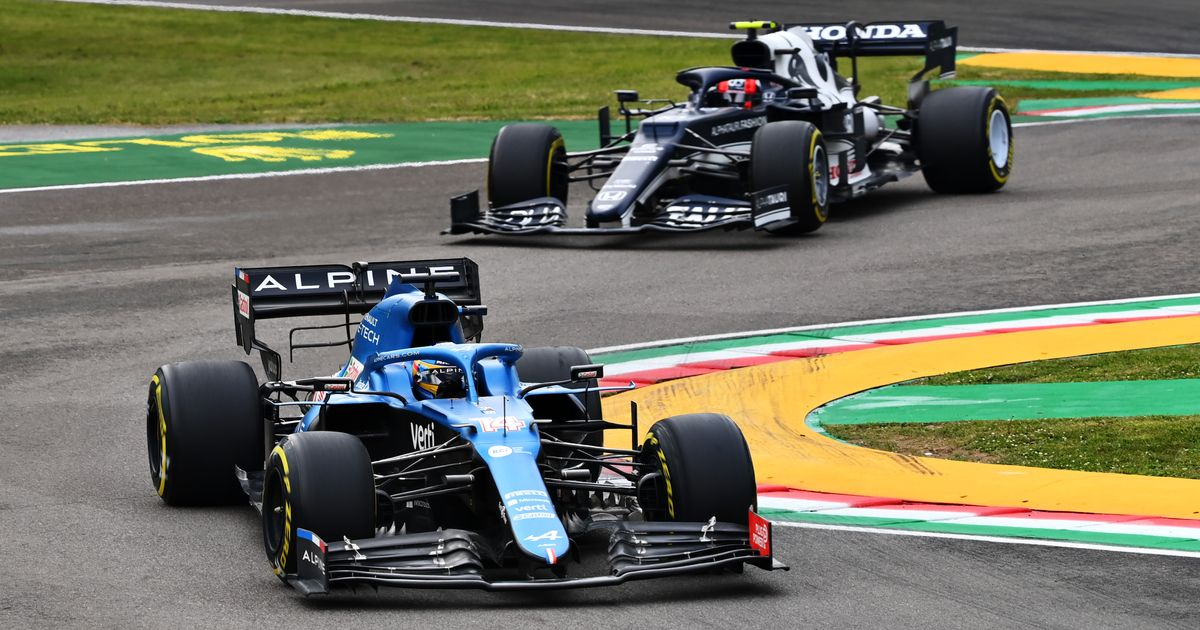Formule 1: (147, 257, 758, 589), (452, 17, 1020, 246)
